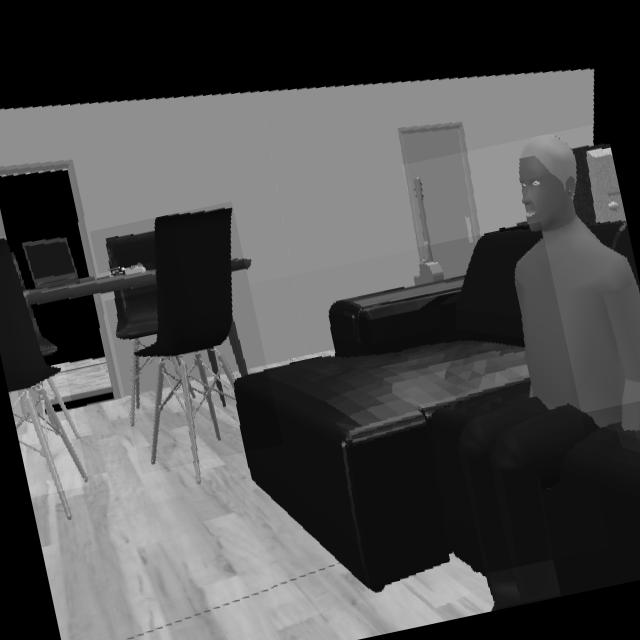chair: (106, 208, 234, 461), (0, 237, 88, 492)
laptop: (19, 236, 79, 289)
person: (460, 135, 640, 607)
sofa: (235, 230, 544, 594), (542, 424, 640, 595)
table: (26, 273, 156, 309)
